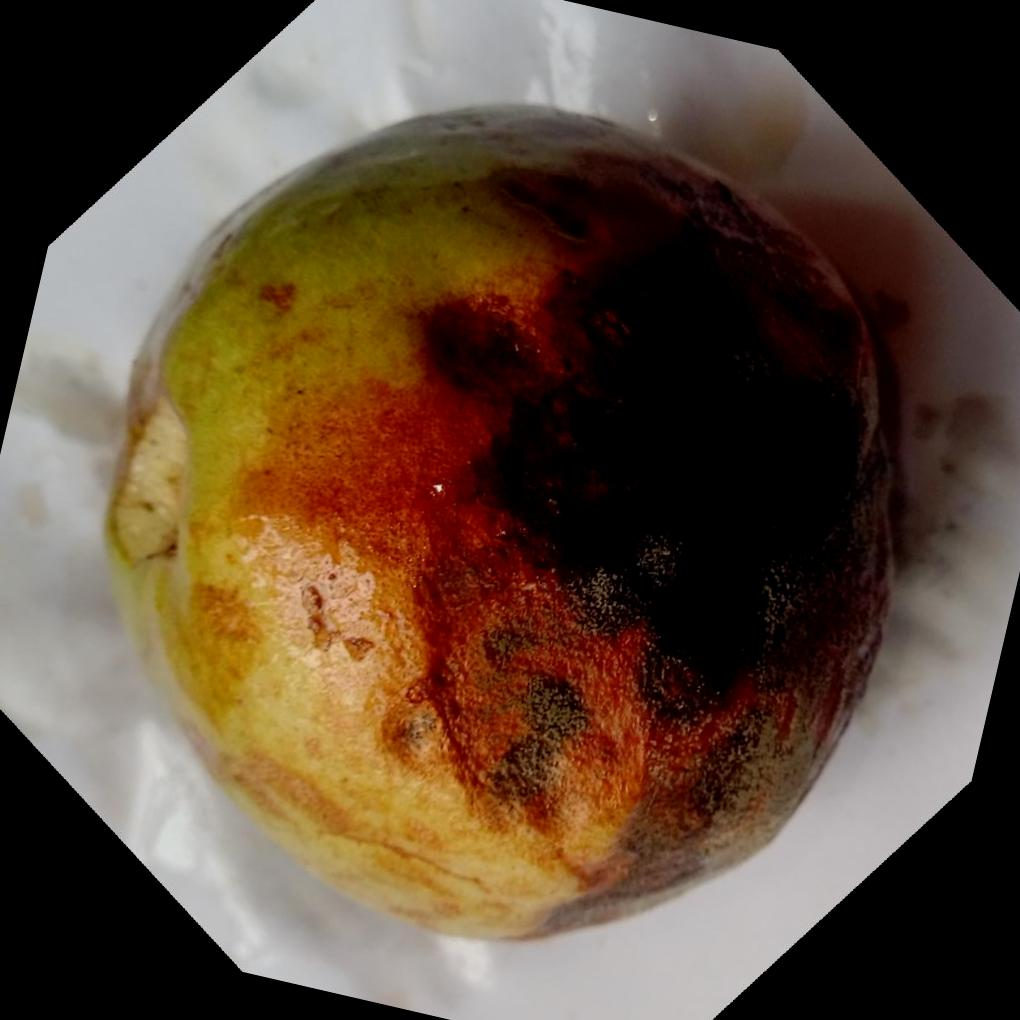FreshOrange: (104, 103, 908, 946)
